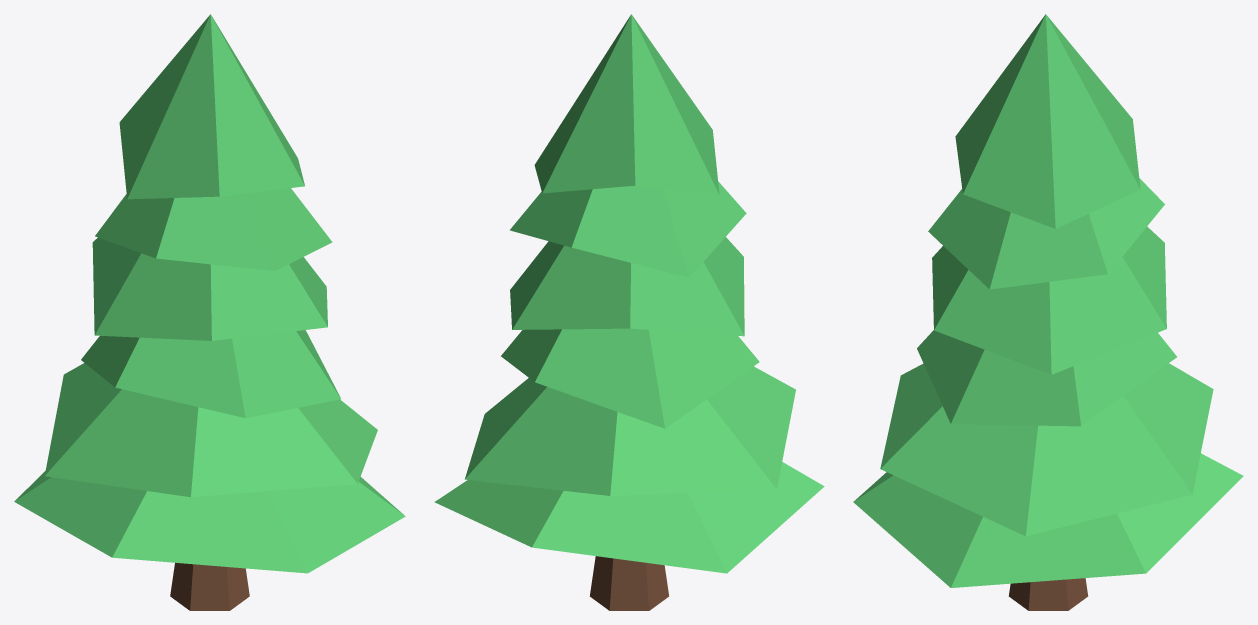
File: fir_tree_poly.fbx
3 renders of one model, left to right at view 1: azimuth 30°, elevation 25°; view 2: azimuth 150°, elevation 25°; view 3: azimuth 270°, elevation 25°, orthographic.
Visible parts, largest first — view 1: fir_tree_poly; view 2: fir_tree_poly; view 3: fir_tree_poly.
Part boxes in pixels (bbox=[...]): fir_tree_poly: bbox=[14, 14, 405, 610]; fir_tree_poly: bbox=[434, 14, 824, 610]; fir_tree_poly: bbox=[853, 14, 1243, 610].
Bounding box in the file's own units: 2.69 × 4.78 × 2.91.
